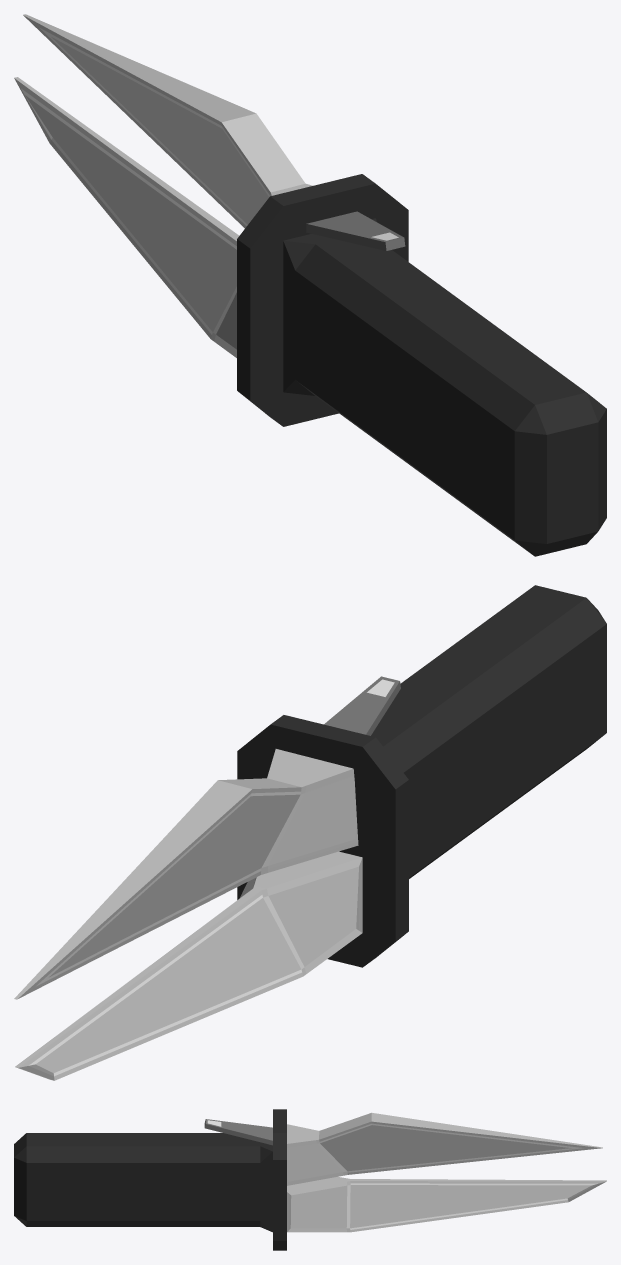
The model's file is CutterKnife.fbx.
3 renders of one model, top to bottom at view 1: azimuth 30°, elevation 25°; view 2: azimuth 150°, elevation 25°; view 3: azimuth 270°, elevation 25°, orthographic. The views are drawn at different scales.
Parts seen in each view (by area): view 1: Base, Top Blade, Trigger; view 2: Base, Top Blade, Trigger; view 3: Base, Top Blade, Trigger.
Part boxes in pixels (<box>): Base: <box>14,77,606,556</box>; Top Blade: <box>23,14,312,228</box>; Trigger: <box>306,211,405,250</box>; Base: <box>15,585,606,1080</box>; Top Blade: <box>14,749,358,999</box>; Trigger: <box>324,676,400,735</box>; Base: <box>14,1109,606,1250</box>; Top Blade: <box>287,1112,602,1185</box>; Trigger: <box>204,1119,272,1145</box>.
Size of the model in its own units: 10.53 by 14.6 by 64.14.
